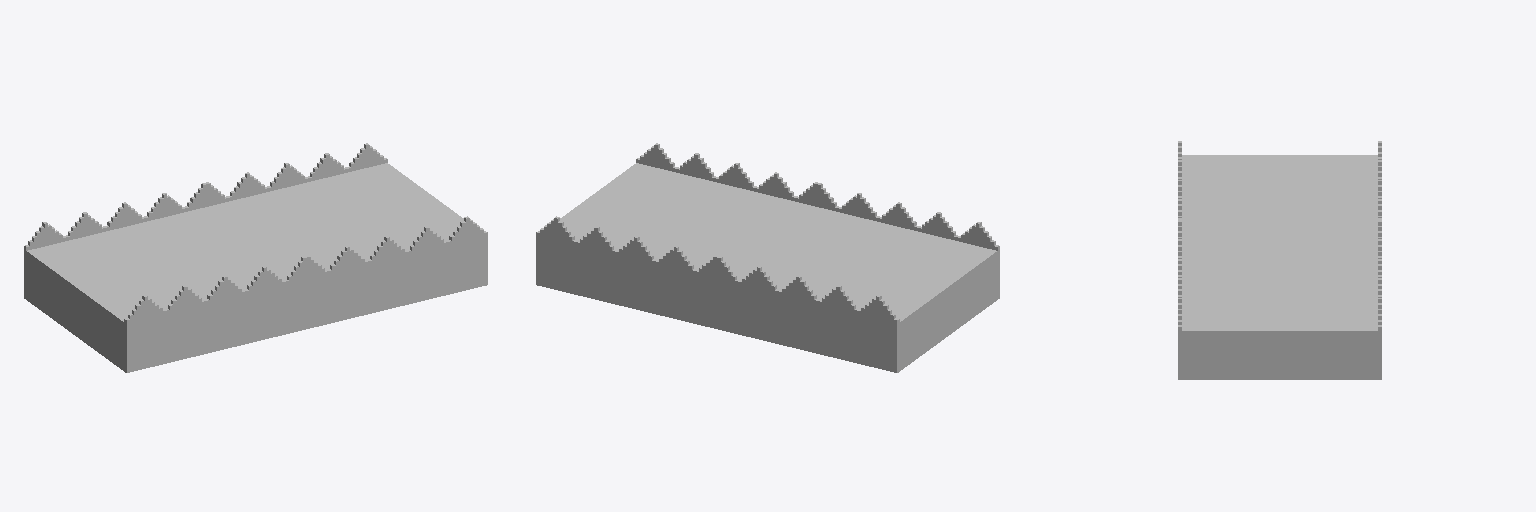
File: path.obj
3 renders of one model, left to right at view 1: azimuth 30°, elevation 25°; view 2: azimuth 150°, elevation 25°; view 3: azimuth 270°, elevation 25°, orthographic.
Parts seen in each view (by area): view 1: object 1; view 2: object 1; view 3: object 1.
Part boxes in pixels (x1,y1,x2,y2): object 1: (24,143,487,372); object 1: (536,143,999,372); object 1: (1178,141,1381,379).
Size of the model in its own units: 10 by 1.9 by 4.9.